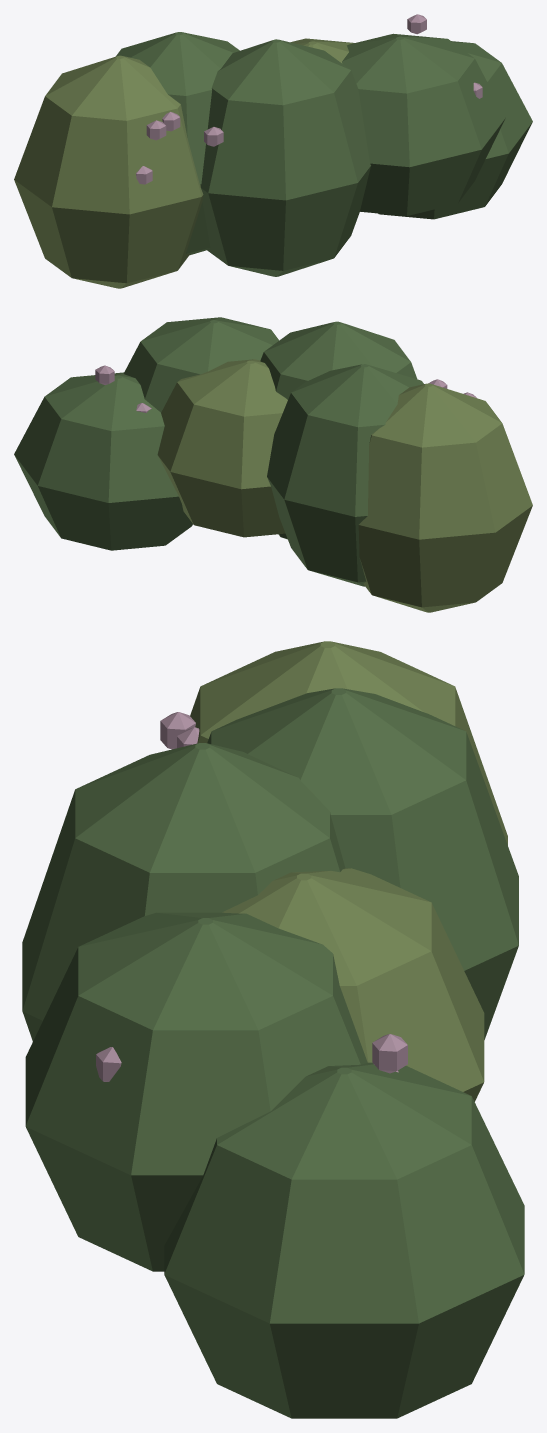
The model's file is NAT_V3_Hedge_Bramble.glb.
The picture shows the model from 3 angles, top to bottom: view 1: azimuth 30°, elevation 25°; view 2: azimuth 150°, elevation 25°; view 3: azimuth 270°, elevation 25°; orthographic projection. The views are drawn at different scales.
Visible parts, largest first — view 1: NAT_V3_Hedge_Bramble; view 2: NAT_V3_Hedge_Bramble; view 3: NAT_V3_Hedge_Bramble.
Boxes of the visible parts, x1=… form: NAT_V3_Hedge_Bramble: x1=14, y1=14, x2=532, y2=288; NAT_V3_Hedge_Bramble: x1=14, y1=317, x2=532, y2=612; NAT_V3_Hedge_Bramble: x1=22, y1=641, x2=524, y2=1418.
Bounding box in the file's own units: 1.75 × 0.8479 × 0.7983.
